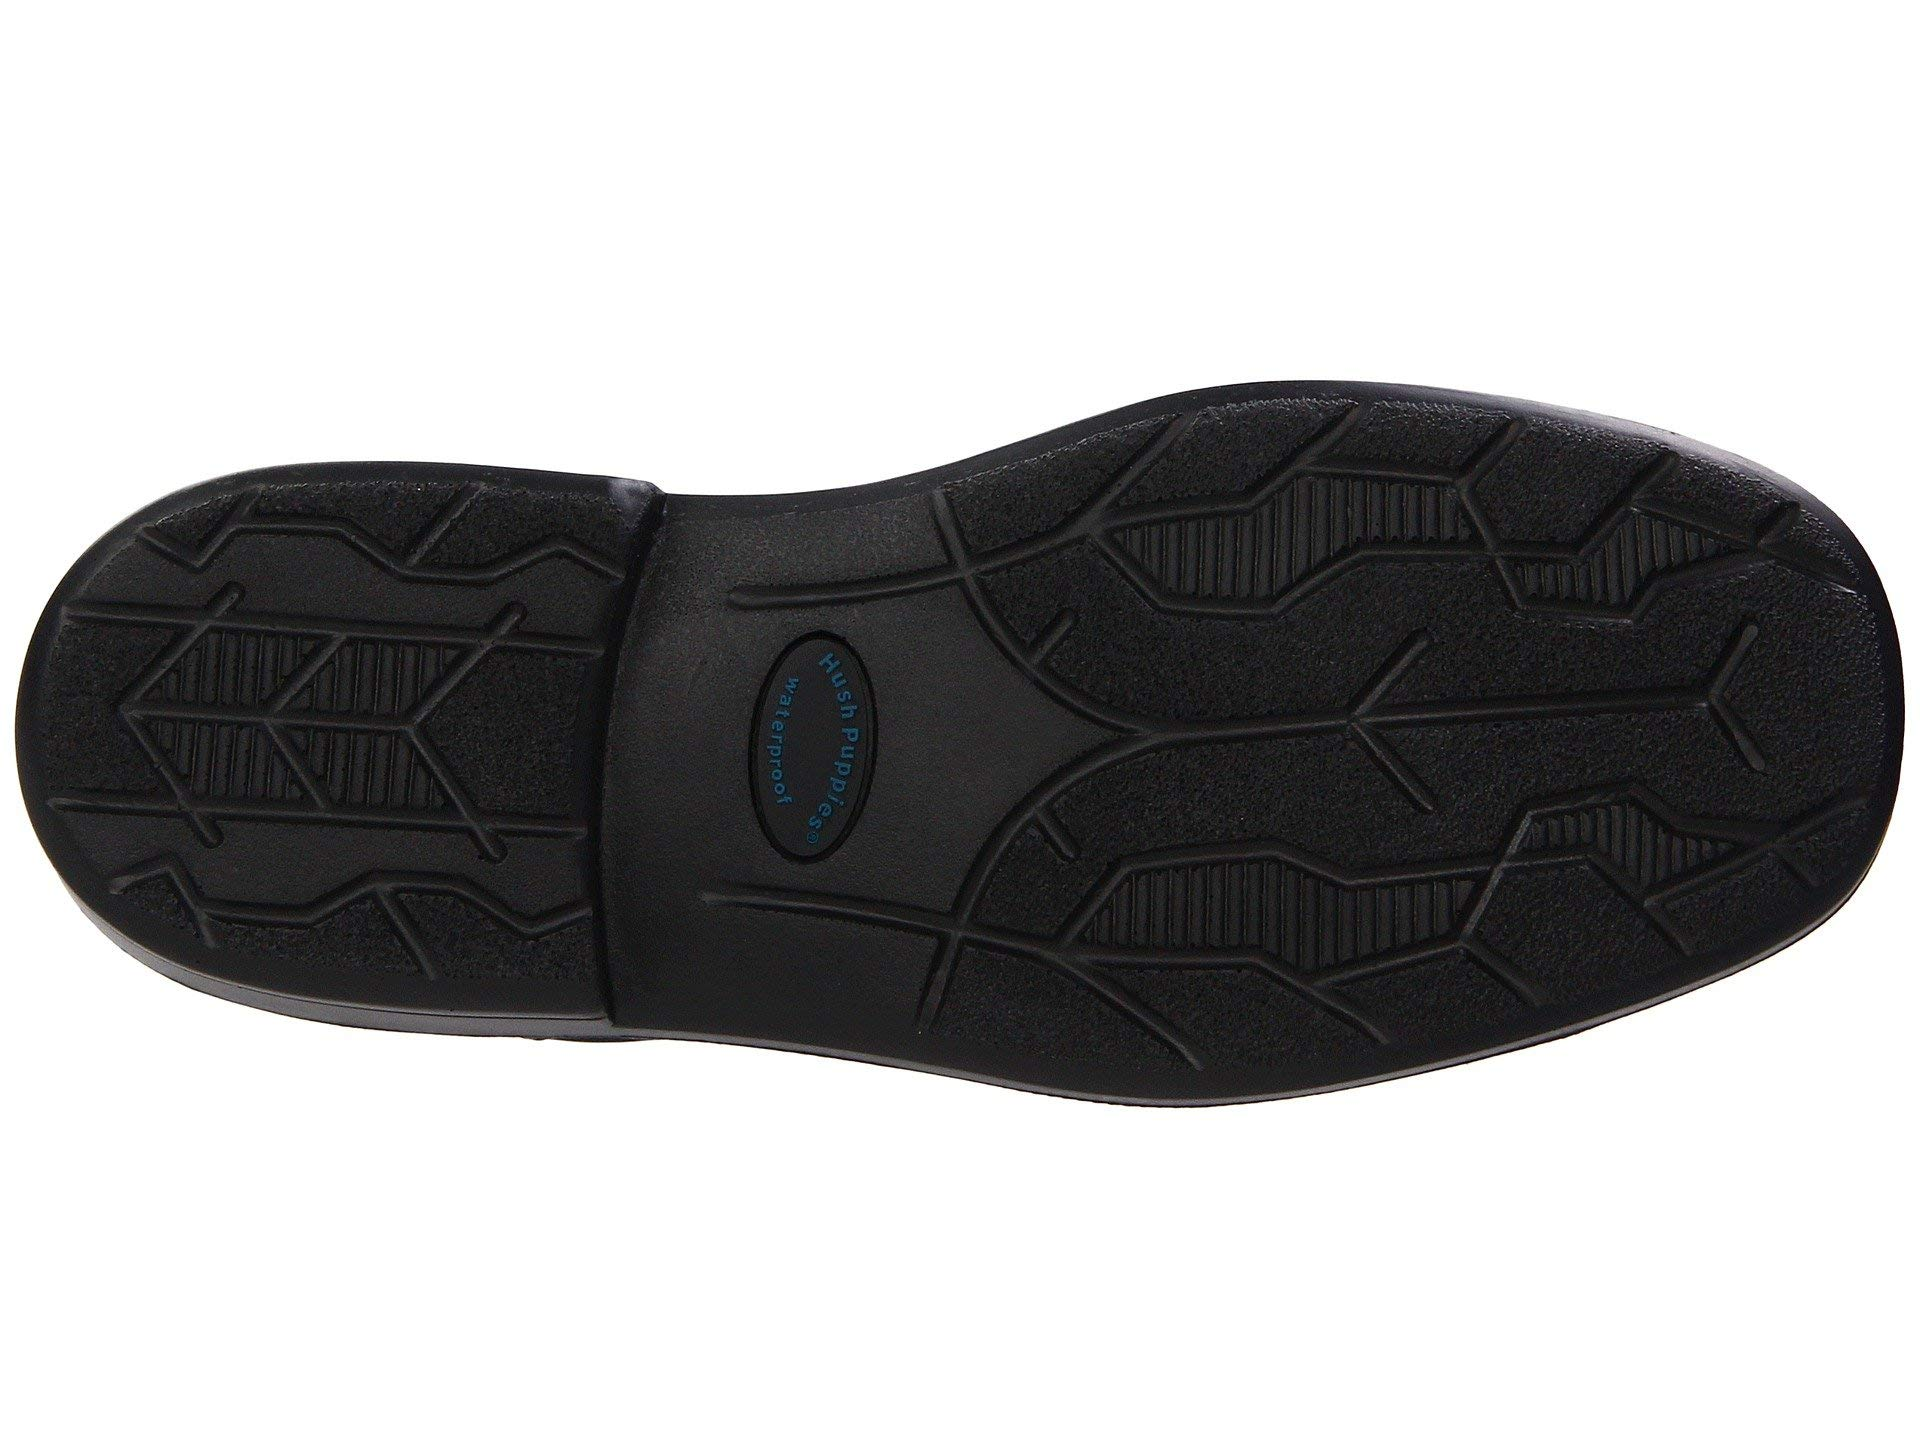chevron: (113, 576, 519, 880), (1238, 593, 1488, 843)
circle: (647, 604, 954, 895)
line: (113, 576, 519, 880), (1530, 455, 1807, 768)
quad: (113, 576, 519, 880)
text: (647, 604, 954, 895)
